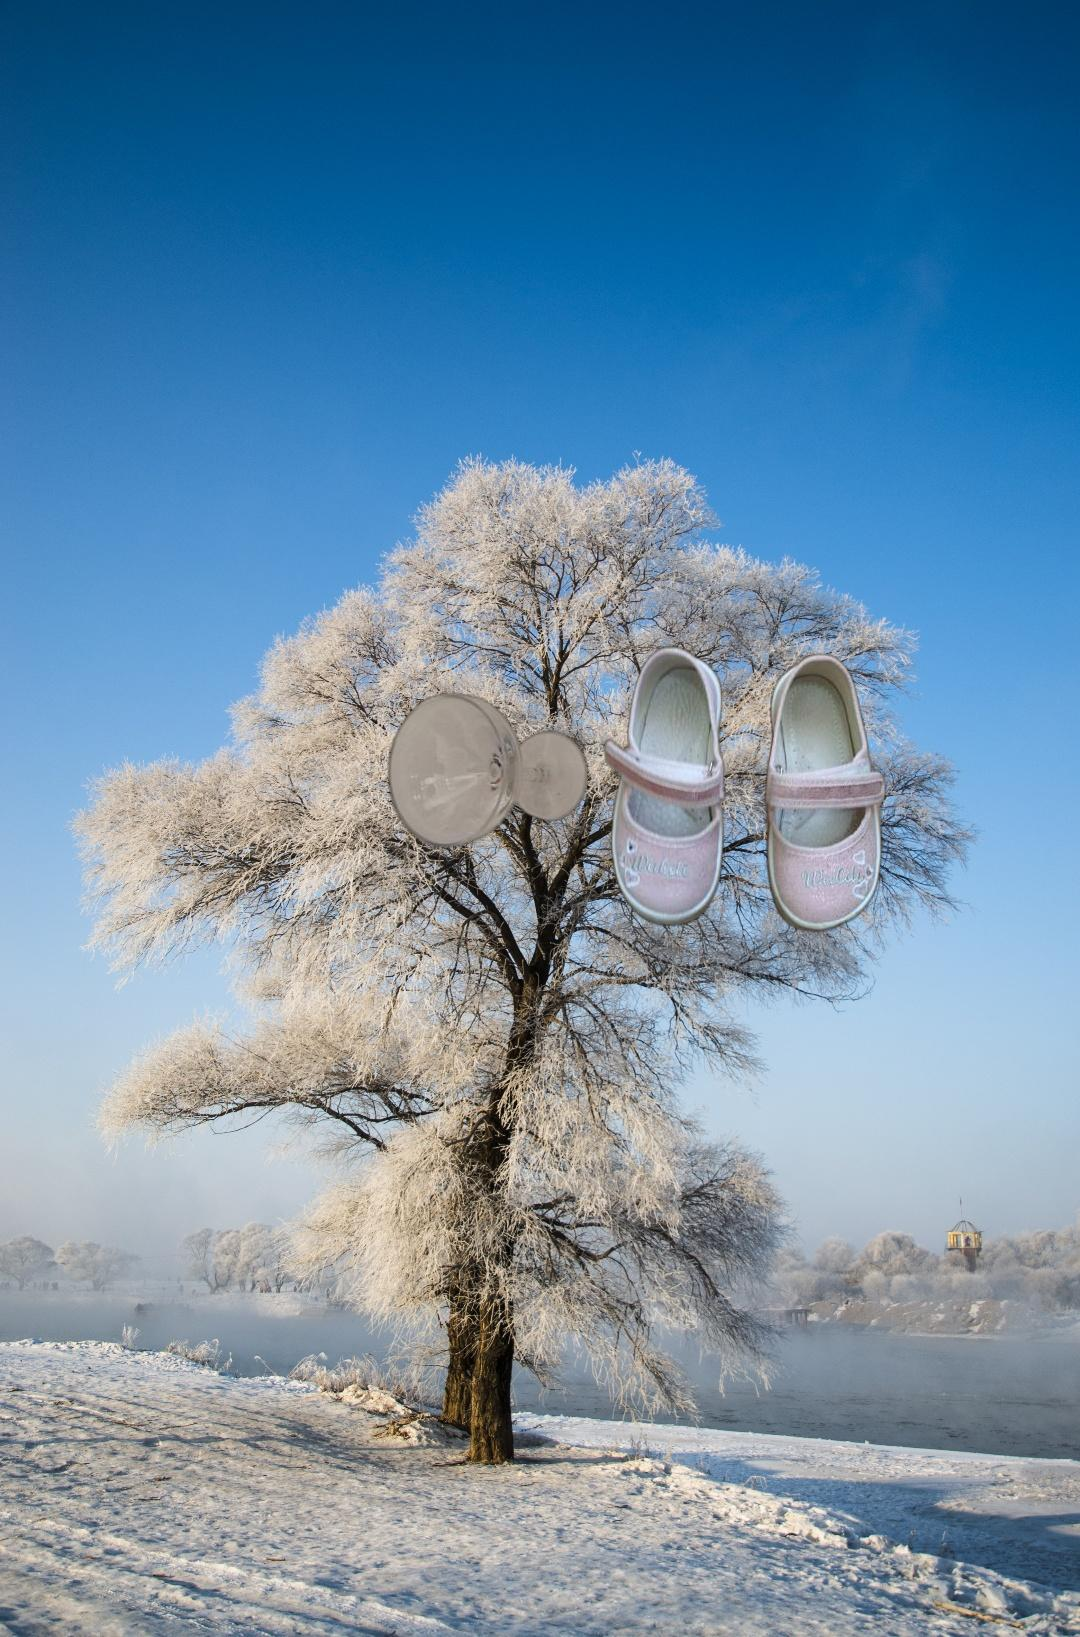glass: (282, 575, 593, 850)
shoes: (601, 641, 890, 937)
